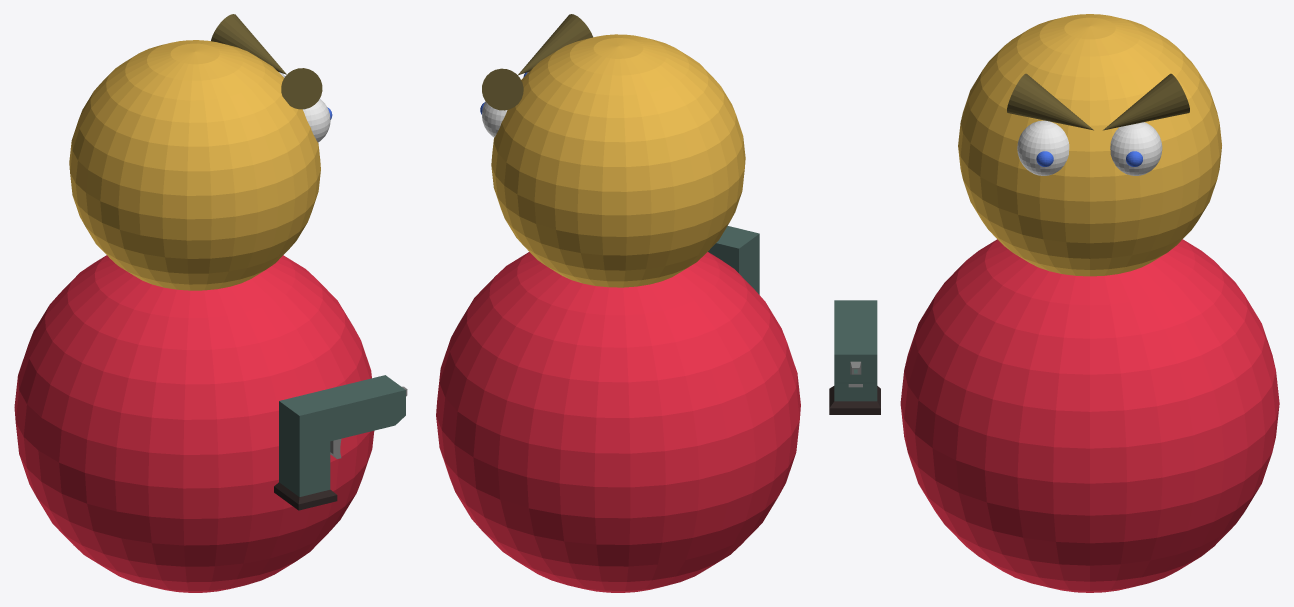
File: player01.fbx
The picture shows the model from 3 angles, left to right: view 1: azimuth 30°, elevation 25°; view 2: azimuth 150°, elevation 25°; view 3: azimuth 270°, elevation 25°; orthographic projection. The views are drawn at different scales.
Parts seen in each view (by area): view 1: Sphere, Sphere.001, pistol, Cone.001, Cone, Sphere.003; view 2: Sphere, Sphere.001, pistol, Cone.001, Cone, Sphere.002; view 3: Sphere, Sphere.001, pistol, Sphere.003, Cone.001, Cone, Sphere.002.
Part boxes in pixels (bbox=[...]): Sphere: bbox=[14, 255, 374, 592]; Sphere.001: bbox=[69, 40, 320, 290]; pistol: bbox=[274, 375, 407, 510]; Cone.001: bbox=[211, 14, 286, 74]; Cone: bbox=[281, 68, 322, 109]; Sphere.003: bbox=[303, 99, 330, 142]; Sphere: bbox=[436, 252, 800, 592]; Sphere.001: bbox=[491, 34, 745, 287]; pistol: bbox=[708, 226, 759, 294]; Cone.001: bbox=[482, 68, 523, 110]; Cone: bbox=[517, 14, 592, 75]; Sphere.002: bbox=[482, 101, 507, 137]; Sphere: bbox=[900, 239, 1279, 592]; Sphere.001: bbox=[958, 14, 1221, 276]; pistol: bbox=[829, 300, 880, 414]; Sphere.003: bbox=[1017, 120, 1069, 175]; Cone.001: bbox=[1103, 73, 1189, 130]; Cone: bbox=[1007, 73, 1093, 130]; Sphere.002: bbox=[1110, 122, 1162, 175].
Bounding box in the file's own units: 200 × 320 × 238.
